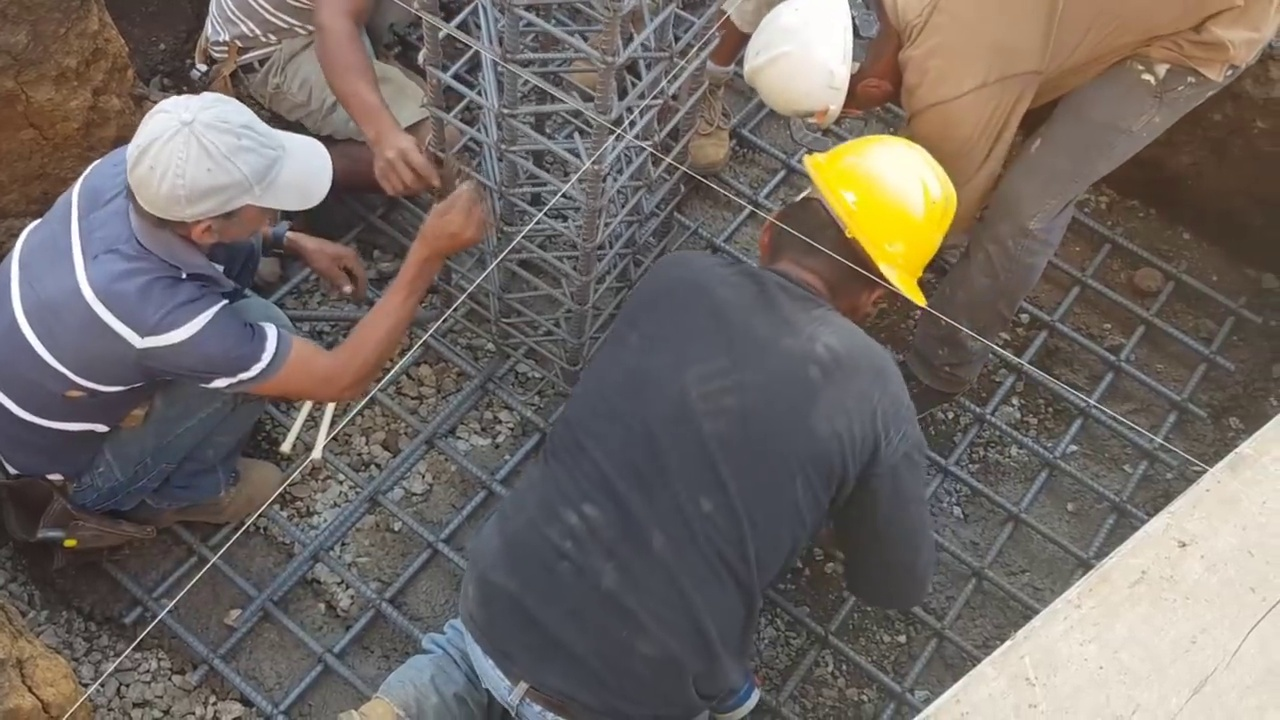helmet: (802, 147, 964, 327), (739, 3, 863, 121)
helmet-off: (115, 98, 337, 277)
helmet-on: (747, 142, 968, 329), (741, 0, 912, 130)
person: (336, 144, 970, 715), (738, 0, 1280, 419), (0, 95, 488, 533), (194, 0, 451, 196)
